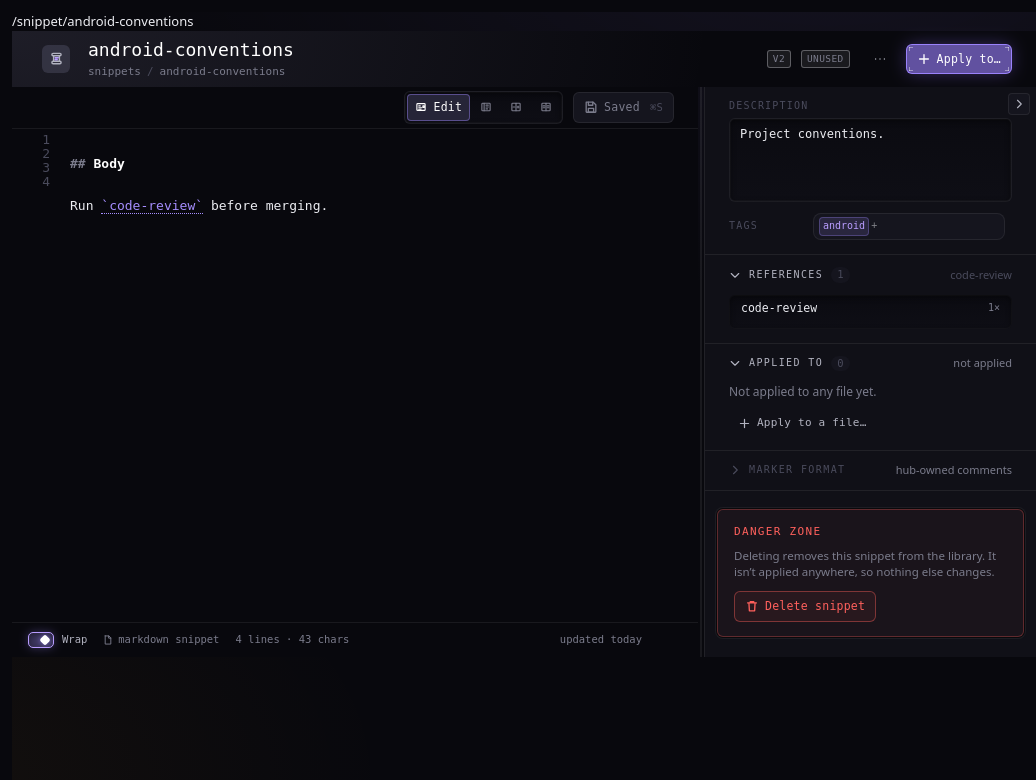
it: SnippetEditor — references (edit mode) › (F3) a dirty description buffer does not block a header rename navigation
The width and height of the screenshot is (1036, 780).
Replace the text in the text box with placeholder "One line — what this snippet instructs" below "description" with "A hand-edited description." at (870, 160), box left=729, top=118, right=1012, bottom=202
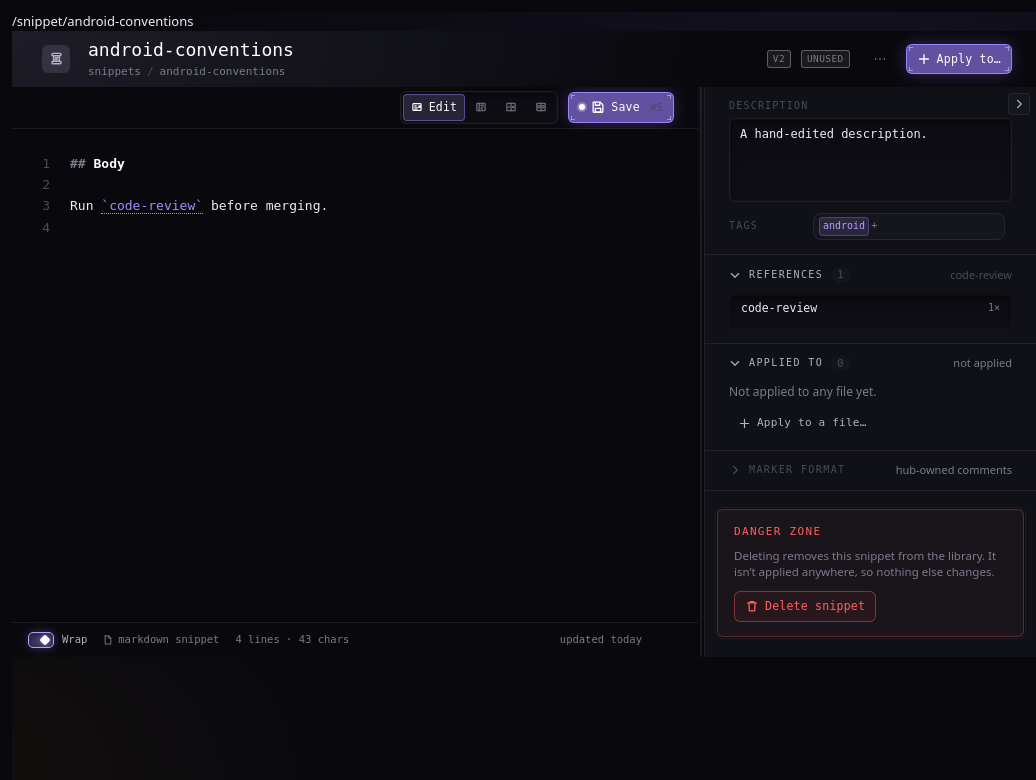
Click the button with aria-label "Rename snippet name: android-conventions".
click(200, 50)  # box left=84, top=38, right=316, bottom=62
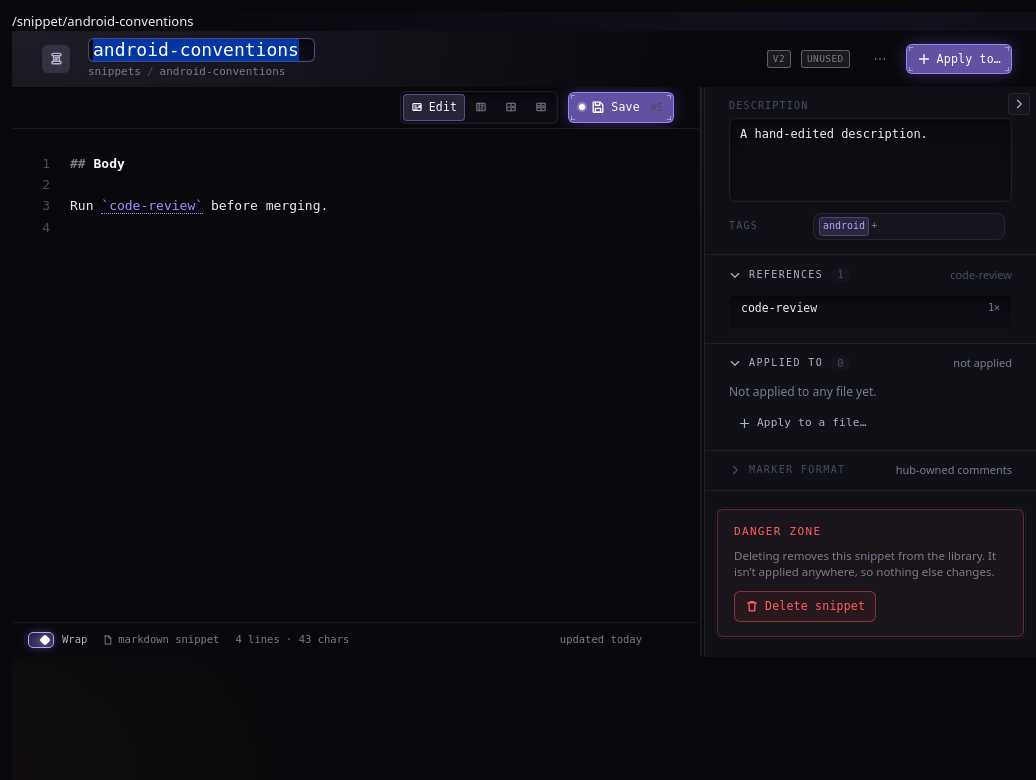
Clear the field named "Snippet name" at (201, 50), box left=88, top=38, right=315, bottom=62
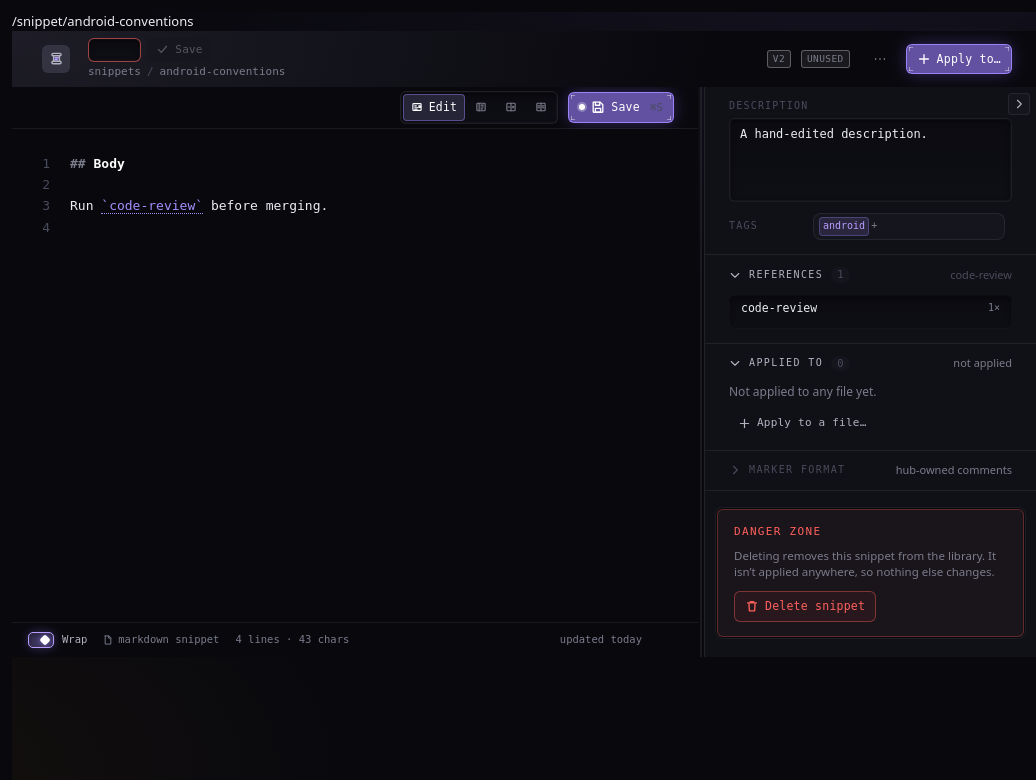
Type "android-guidelines" into the field named "Snippet name".
click(115, 50); type("android-guidelines")  # box left=88, top=38, right=141, bottom=62
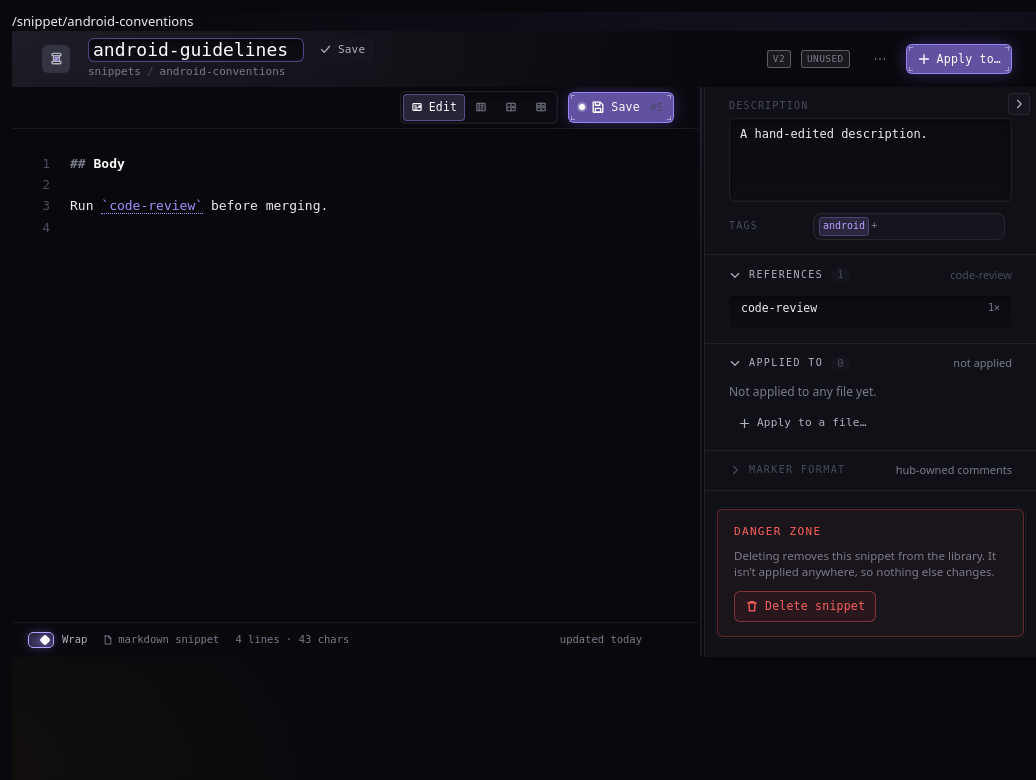
Press Enter
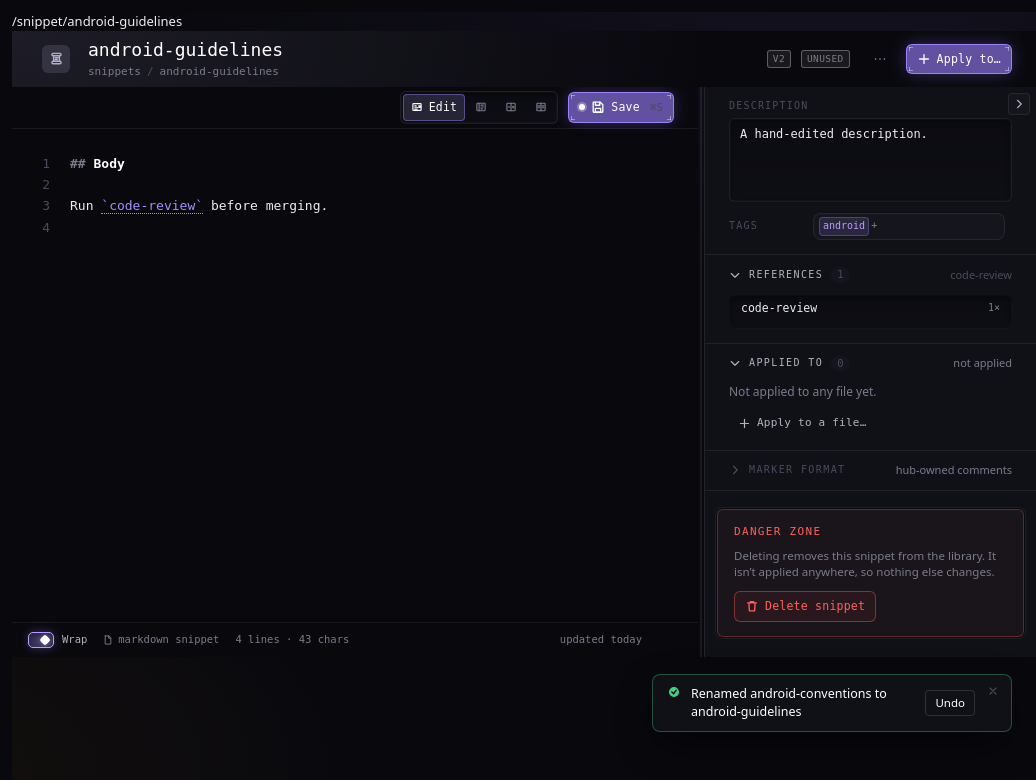
expect the text with test id "loc" reads "/snippet/android-guidelines": met, box left=12, top=12, right=182, bottom=30
